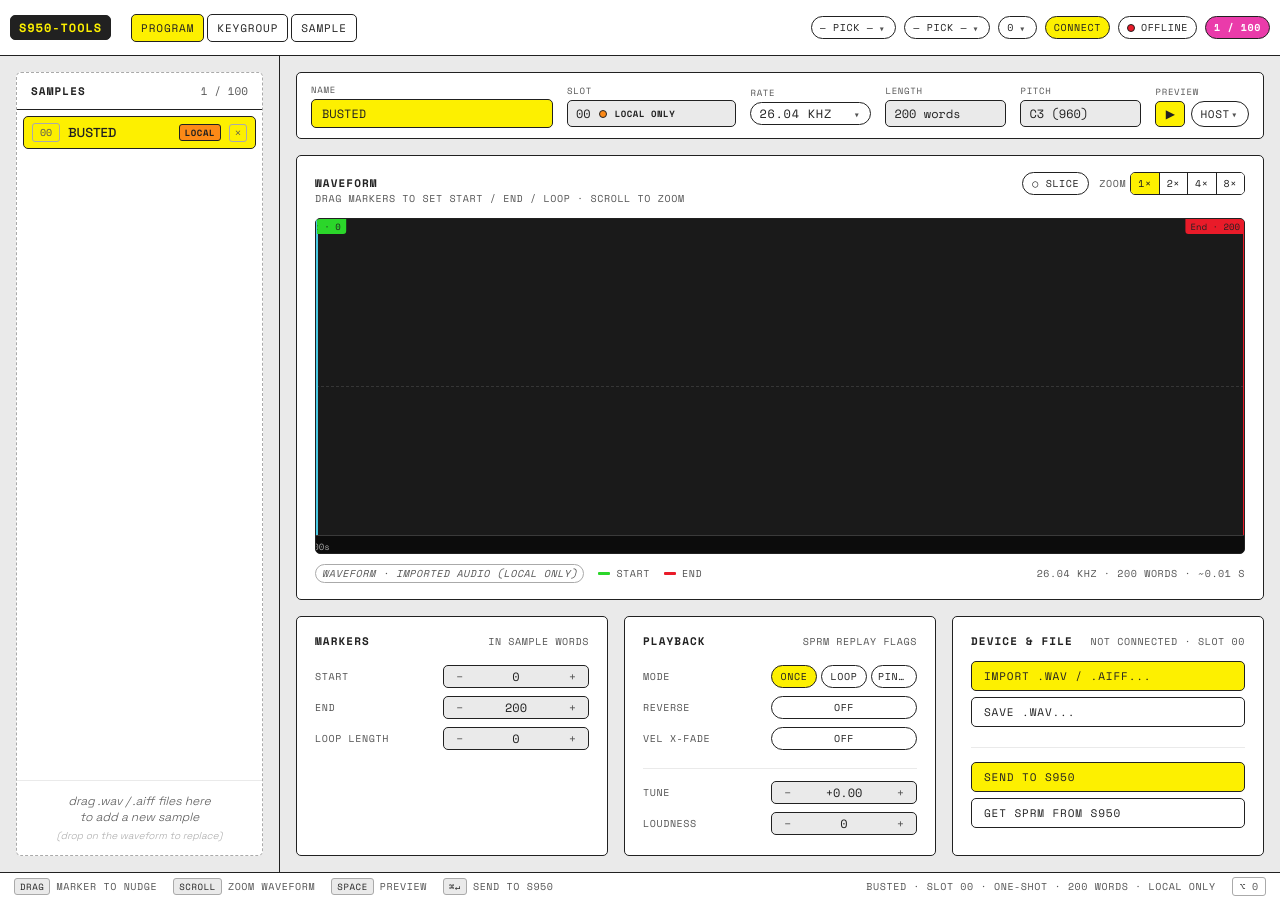
Test: Sample tab — Send to S950 › shows an error modal when SendSample rejects
Click the button "Send to S950": [1030, 777] box top-left (971, 762), bottom-right (1245, 792)
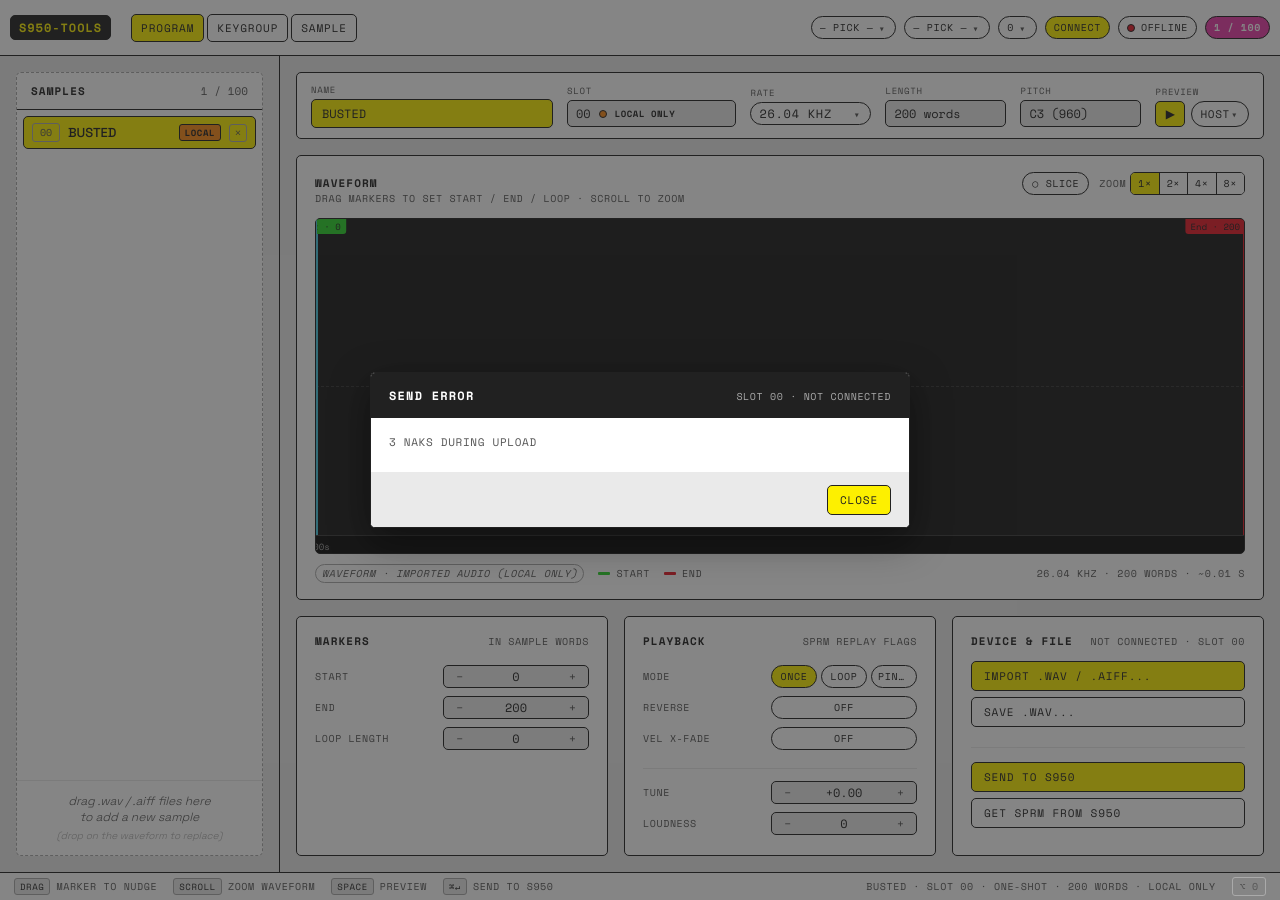
Check: the text "3 NAKs during upload" is shown, box top-left (389, 434), bottom-right (537, 450)
